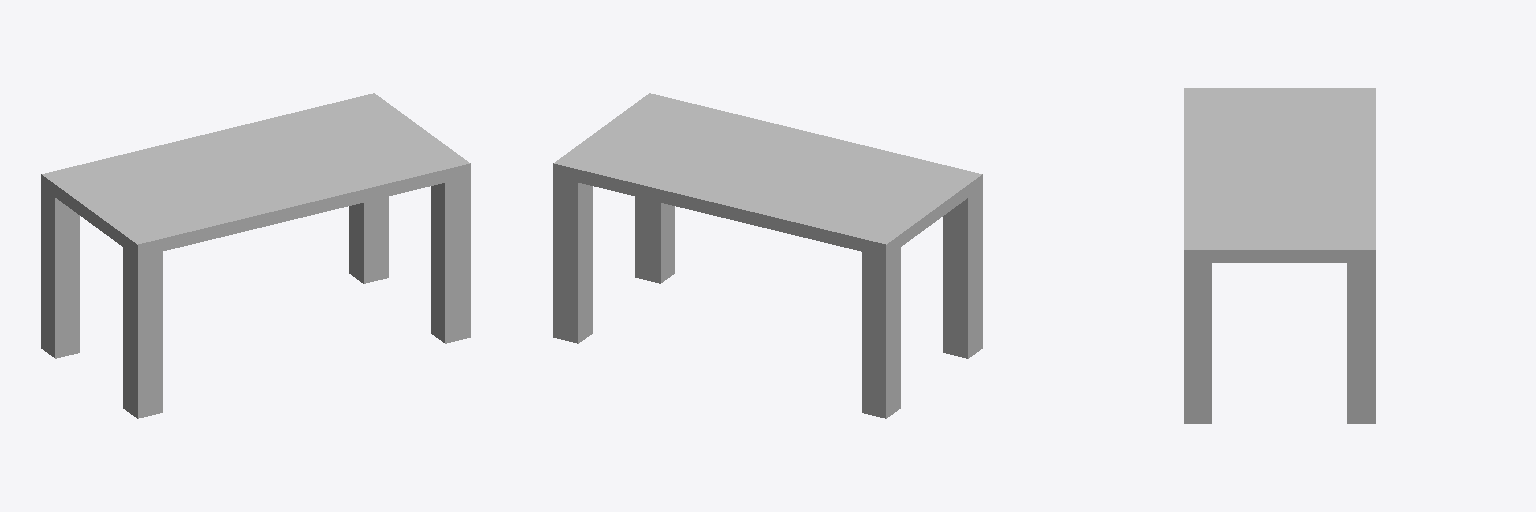
The model's file is baby_table.obj.
The picture shows the model from 3 angles: view 1: azimuth 30°, elevation 25°; view 2: azimuth 150°, elevation 25°; view 3: azimuth 270°, elevation 25°; orthographic projection.
Visible parts, largest first — view 1: Plane; view 2: Plane; view 3: Plane.
Boxes of the visible parts, box(x1,y1,x2,y2) form: Plane: box(41, 93, 470, 418); Plane: box(553, 93, 982, 418); Plane: box(1184, 88, 1375, 423).
Bounding box in the file's own units: 4 × 2 × 2.